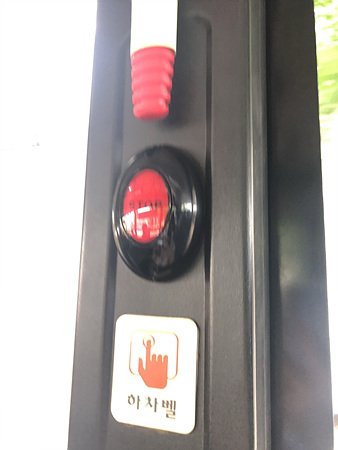bell: (112, 144, 204, 282)
